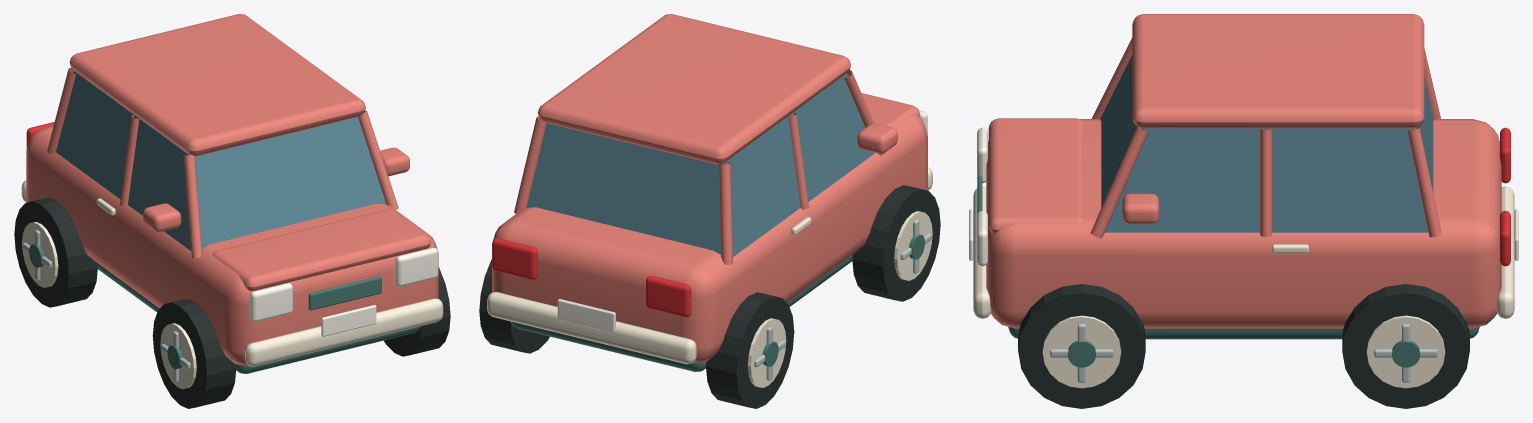
The model's file is car-compact.glb.
3 renders of one model, left to right at view 1: azimuth 30°, elevation 25°; view 2: azimuth 150°, elevation 25°; view 3: azimuth 270°, elevation 25°, orthographic. The views are drawn at different scales.
Visible parts, largest first — view 1: bonnet, cabin glazing, rubber tyre, rubber tyre.001, bumper.001, headlight, front grille, rubber tyre.002, wheel rim.001, wheel rim; view 2: bonnet, cabin glazing, rubber tyre.001, rubber tyre, bumper.001, tail light, rubber tyre.003, front grille, wheel rim.001, wheel rim, headlight; view 3: bonnet, cabin glazing, rubber tyre.002, rubber tyre.003, wheel rim.002, wheel rim.003, bumper.001, front grille, headlight, tail light, hub.002, hub.003 (+2 smaller).
Part boxes in pixels (x1=…): bonnet: x1=26, y1=14, x2=438, y2=365; cabin glazing: x1=56, y1=70, x2=386, y2=250; rubber tyre: x1=152, y1=298, x2=236, y2=408; rubber tyre.001: x1=14, y1=197, x2=97, y2=307; bumper.001: x1=21, y1=180, x2=443, y2=366; headlight: x1=250, y1=247, x2=438, y2=336; front grille: x1=97, y1=263, x2=420, y2=373; rubber tyre.002: x1=384, y1=267, x2=450, y2=356; wheel rim.001: x1=22, y1=222, x2=58, y2=287; wheel rim: x1=160, y1=323, x2=196, y2=389; bonnet: x1=492, y1=14, x2=927, y2=363; cabin glazing: x1=526, y1=74, x2=874, y2=256; rubber tyre.001: x1=706, y1=292, x2=794, y2=408; rubber tyre: x1=852, y1=185, x2=940, y2=301; bumper.001: x1=487, y1=167, x2=932, y2=364; tail light: x1=492, y1=238, x2=691, y2=317; rubber tyre.003: x1=479, y1=259, x2=549, y2=353; front grille: x1=510, y1=255, x2=852, y2=371; wheel rim.001: x1=747, y1=318, x2=786, y2=387; wheel rim: x1=894, y1=211, x2=932, y2=280; headlight: x1=557, y1=110, x2=927, y2=332; bonnet: x1=986, y1=14, x2=1501, y2=328; cabin glazing: x1=1100, y1=55, x2=1433, y2=232; rubber tyre.002: x1=1018, y1=284, x2=1145, y2=408; rubber tyre.003: x1=1342, y1=284, x2=1469, y2=408; wheel rim.002: x1=1042, y1=315, x2=1121, y2=388; wheel rim.003: x1=1366, y1=315, x2=1445, y2=388; bumper.001: x1=973, y1=186, x2=1514, y2=318; front grille: x1=977, y1=176, x2=1479, y2=339; headlight: x1=969, y1=127, x2=1518, y2=266; tail light: x1=1500, y1=127, x2=1510, y2=266; hub.002: x1=1067, y1=340, x2=1096, y2=367; hub.003: x1=1391, y1=340, x2=1420, y2=367.
Size of the model in its own units: 1.41 by 1.25 by 2.24.
